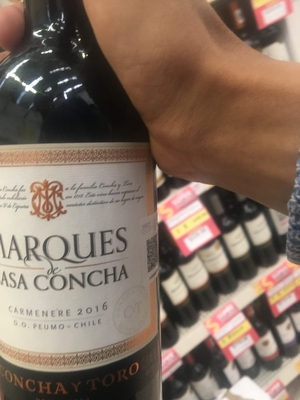marques de casa concha carmenere: (1, 12, 174, 400)
